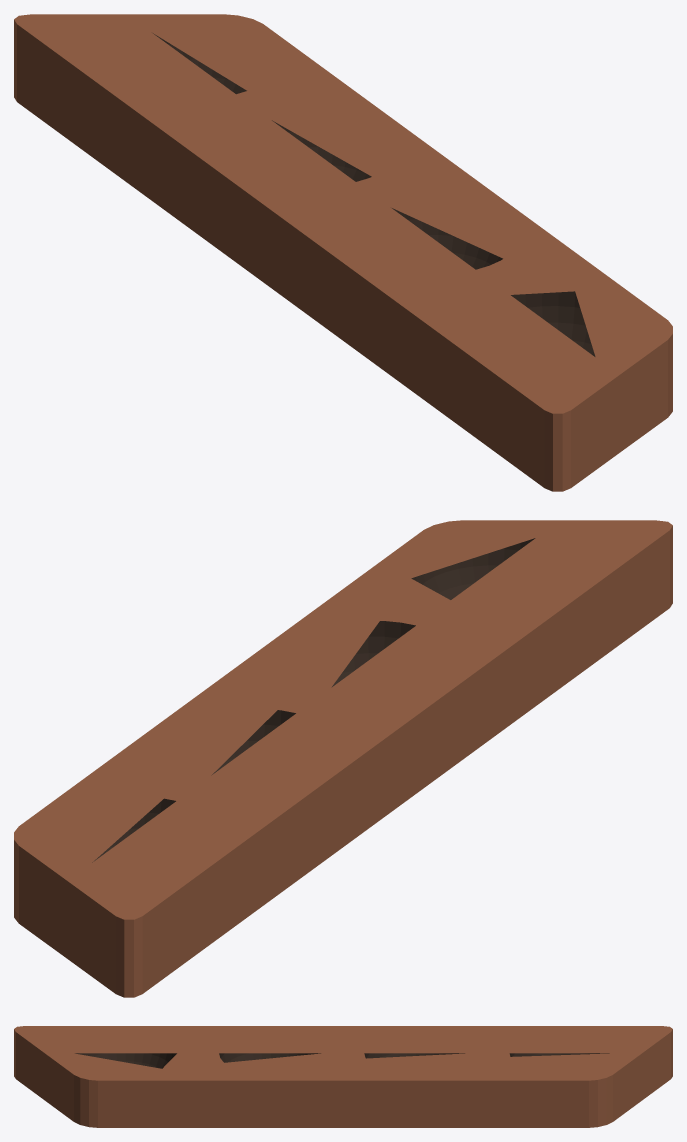
Rendered from Triangular Cannon Ball Holder 4 Ball.fbx.
3 views of the same model, one above another, from view 1: azimuth 30°, elevation 25°; view 2: azimuth 150°, elevation 25°; view 3: azimuth 270°, elevation 25° (orthographic). The views are drawn at different scales.
Parts seen in each view (by area): view 1: Triangular Cannon Ball Holder 4 Ball; view 2: Triangular Cannon Ball Holder 4 Ball; view 3: Triangular Cannon Ball Holder 4 Ball.
Boxes of the visible parts, <box> form: Triangular Cannon Ball Holder 4 Ball: <box>14,14,672,491</box>; Triangular Cannon Ball Holder 4 Ball: <box>14,520,672,997</box>; Triangular Cannon Ball Holder 4 Ball: <box>14,1026,672,1127</box>.
Size of the model in its own units: 250 by 101 by 1274.
